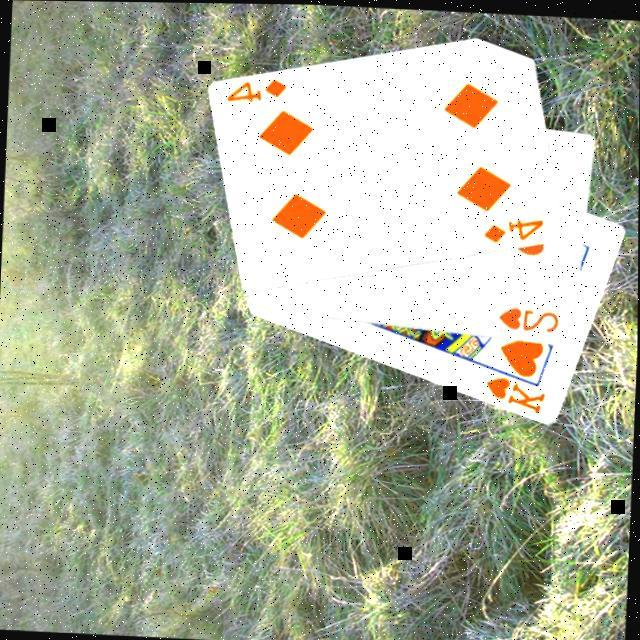2H: (492, 301, 560, 334)
4D: (478, 210, 545, 246), (222, 71, 288, 106)
KH: (480, 370, 548, 415)
